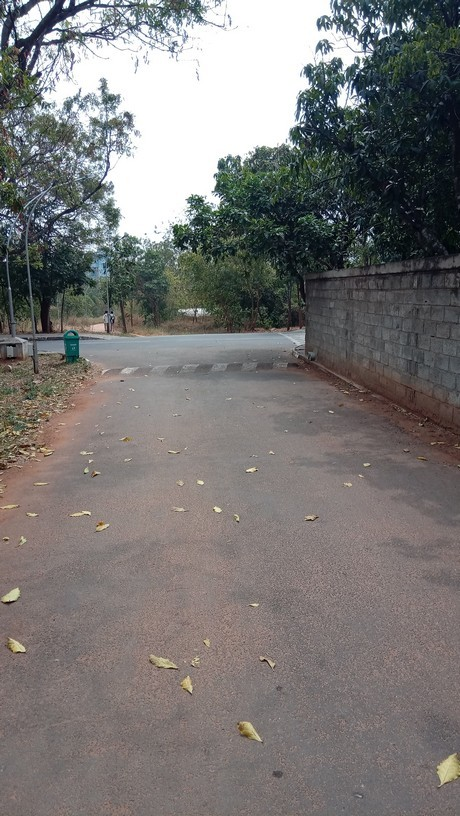bump: (85, 358, 311, 378)
